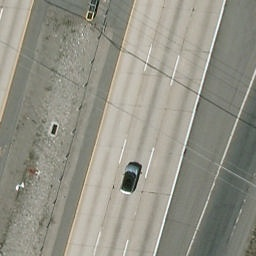car: (120, 163, 142, 195)
